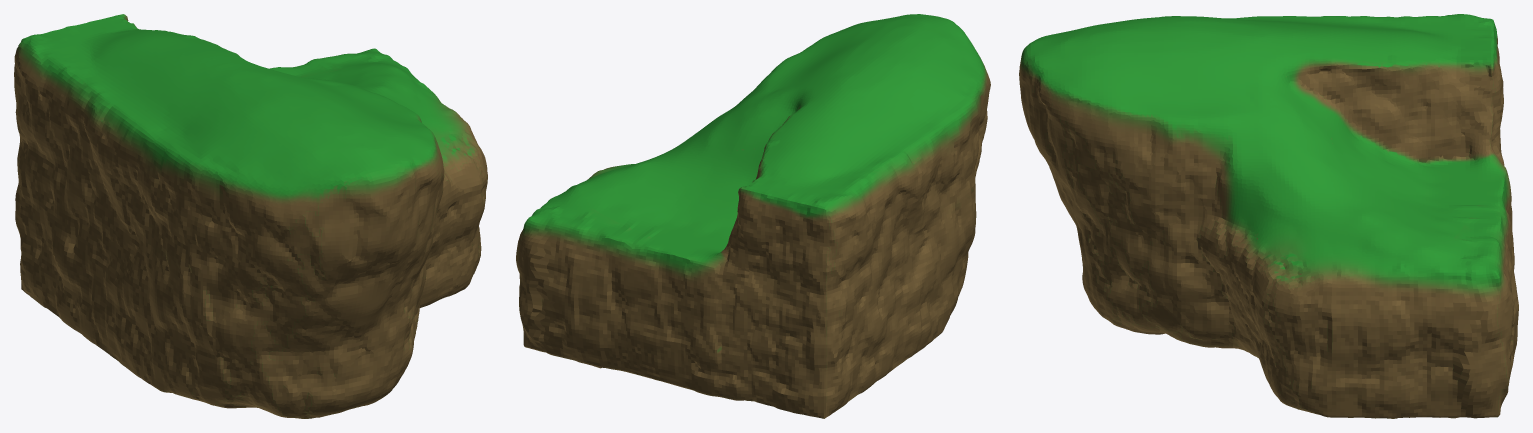
The model's file is stone.fbx.
3 renders of one model, left to right at view 1: azimuth 30°, elevation 25°; view 2: azimuth 150°, elevation 25°; view 3: azimuth 270°, elevation 25°, orthographic. The views are drawn at different scales.
Visible parts, largest first — view 1: Plane; view 2: Plane; view 3: Plane.
Part boxes in pixels (x1,y1,x2,y2): Plane: (14, 14, 487, 418); Plane: (516, 14, 990, 418); Plane: (1019, 14, 1518, 418).
Size of the model in its own units: 985 by 702 by 1160.
Materials: 1 (1 with a texture image).
